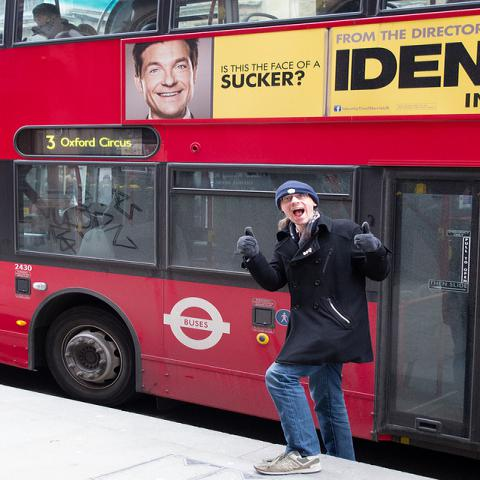bus: (0, 0, 479, 463)
